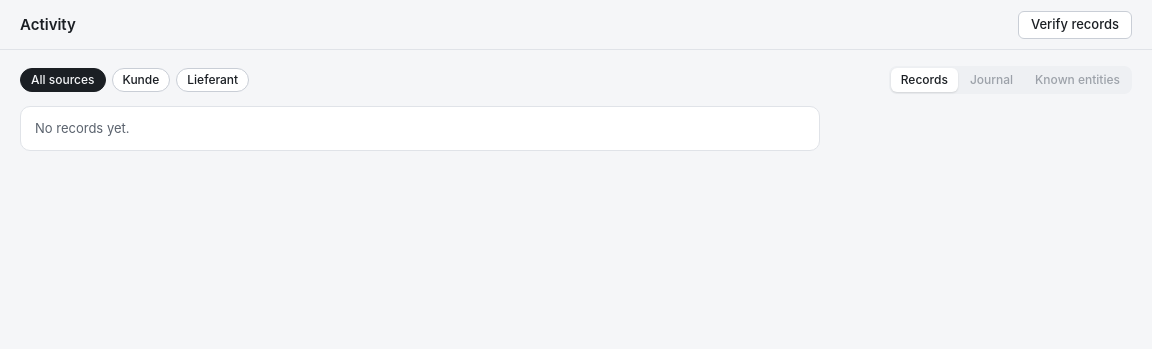
Activity › Hide now takes the revealed originals off the screen; the pill starts at a full minute
Click the button "Kunde". click: (141, 80)
box: [112,68,170,92]
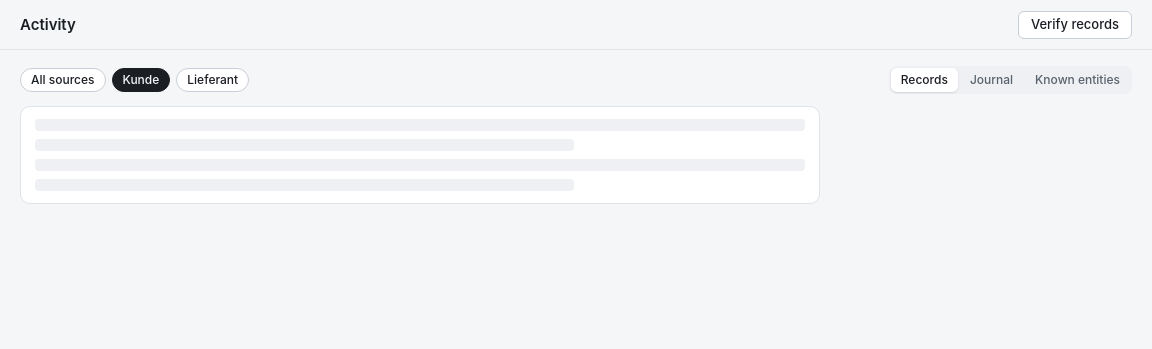
Click the tab "Known entities". click: (1078, 80)
box: [1025,68,1130,92]
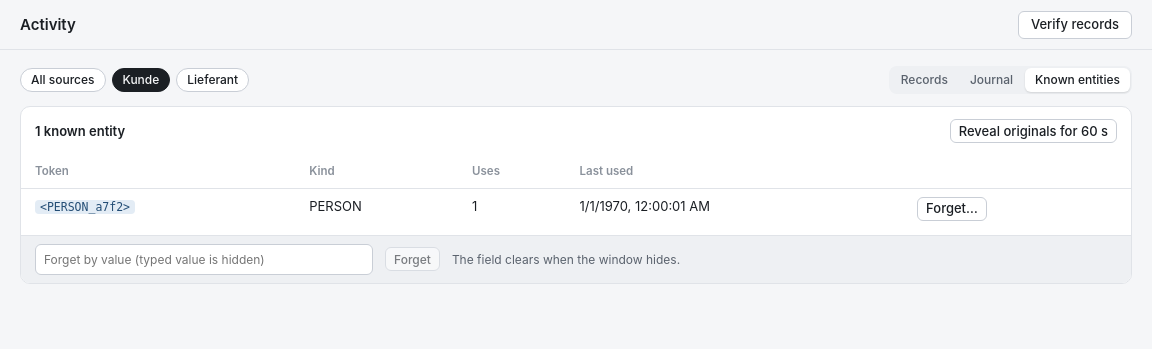
Now the text "<PERSON_a7f2>" is shown, box [35,200,135,214]
Click the button "Reveal originals for 60 s". click: (1033, 131)
box: [950,119,1117,143]
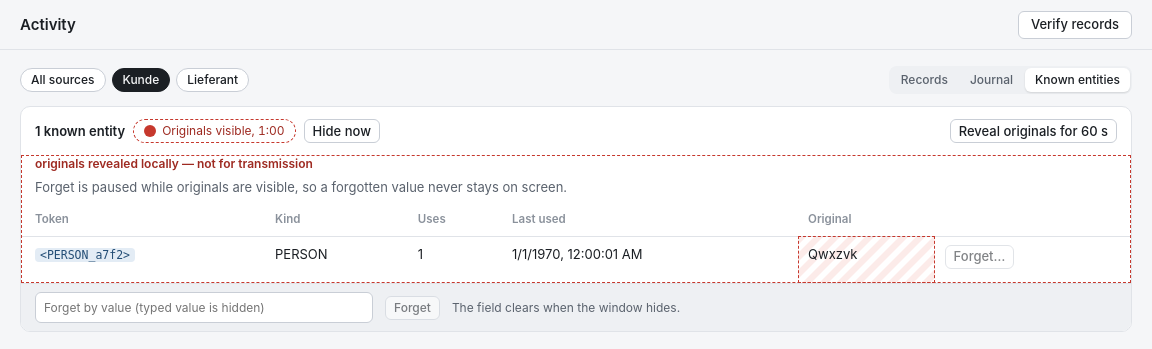
Now the text "Qwxzvk" is shown, box [798,236,935,283]
Now the text "originals revealed locally — not for transmission" is shown, box [35,156,313,171]
Now the text "Originals visible, 1:00" is shown, box [133,119,296,143]
Click the button "Hide now". click: (342, 131)
box: [304,119,380,143]
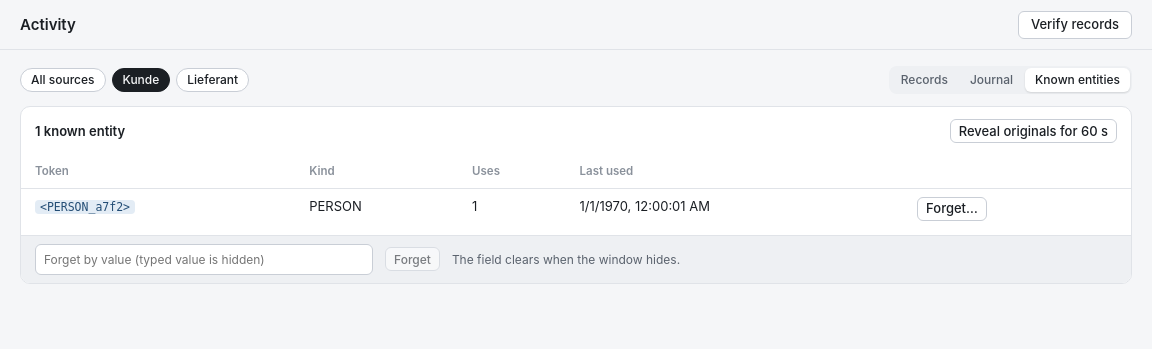
Now the text "originals revealed locally — not for transmission" is gone
Now the text "Qwxzvk" is gone
